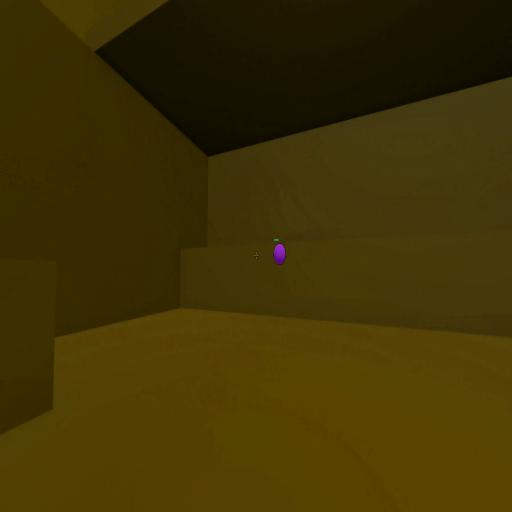Crosshair: (254, 252, 258, 260)
Target: (274, 242, 286, 266)
